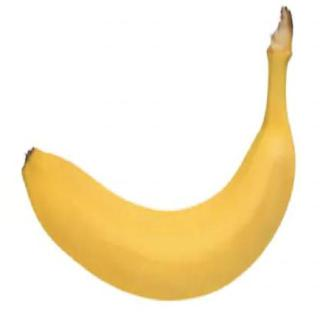banana: (21, 121, 298, 303)
